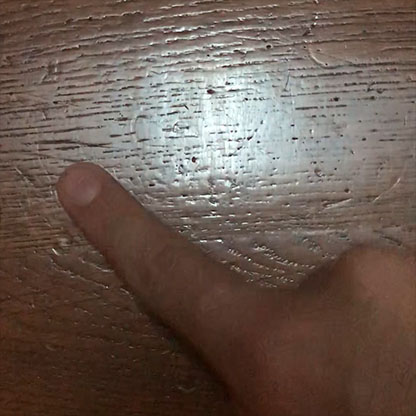fingertip: (49, 155, 123, 227)
